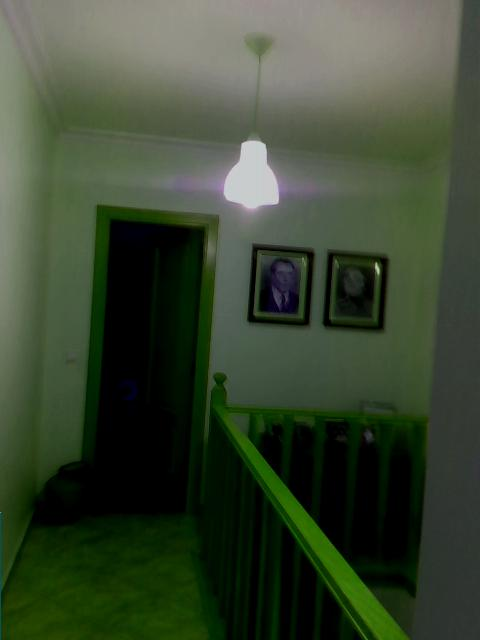semi_door: (78, 201, 219, 512)
